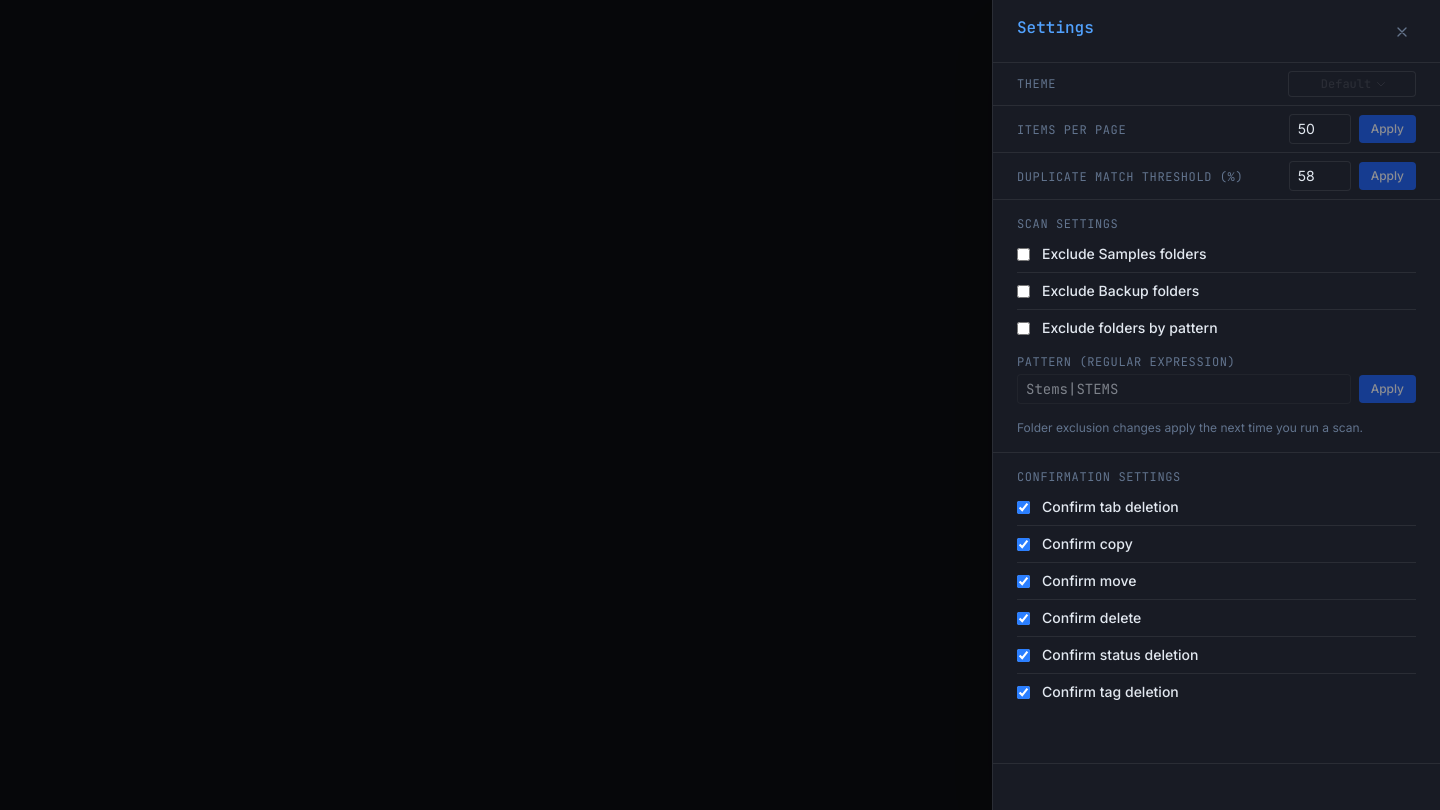
Test: SettingsPanel - save state machine › shows 'Failed to save' when the save rejects, keeping the optimistic value (no rollback)
Click the checkbox labelled "Exclude Samples folders".
click(1024, 254)  # box [1017,248,1030,260]
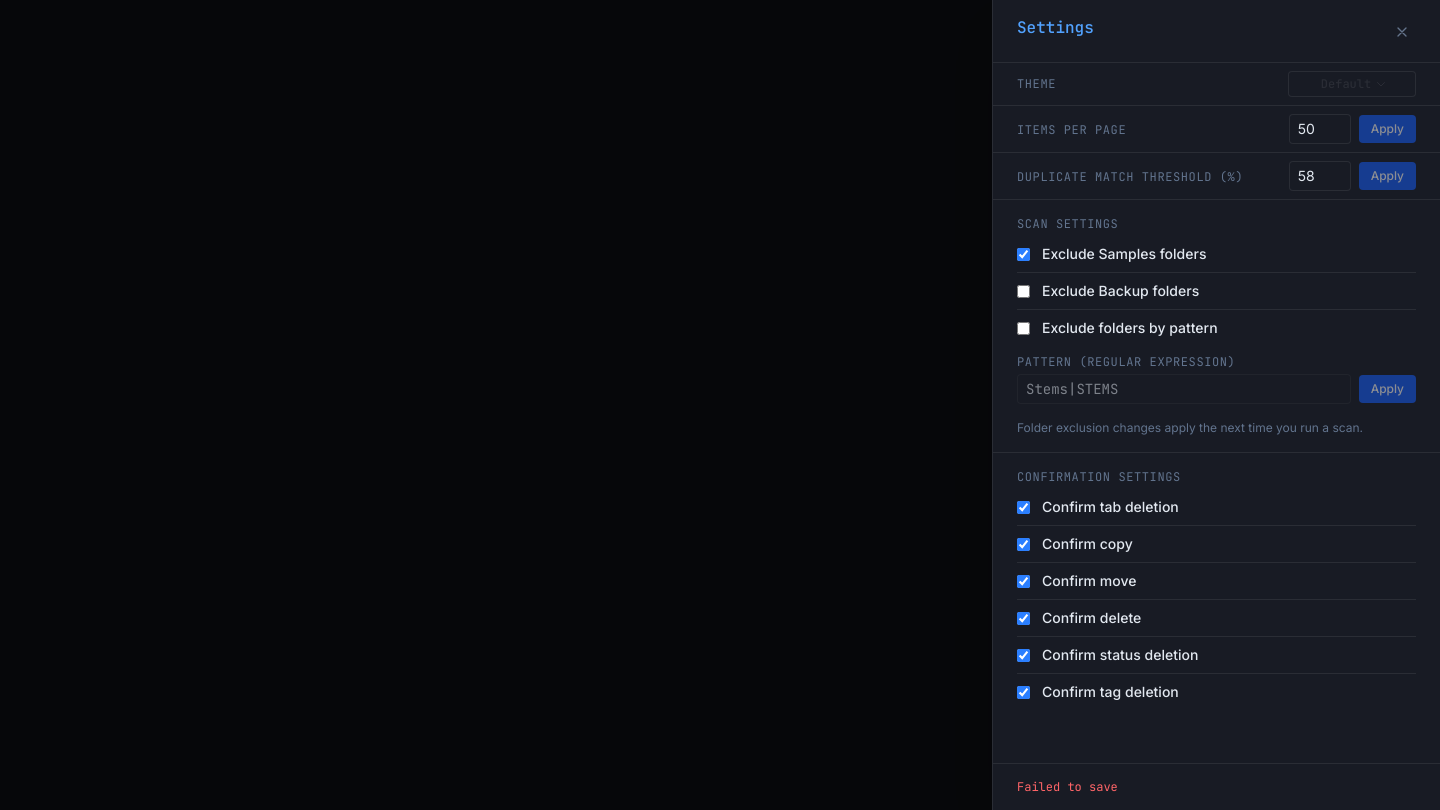
Now the checkbox labelled "Exclude Samples folders" is checked, box [1017,248,1030,260]
Now the text "Failed to save" is shown, box [1017,779,1118,795]
